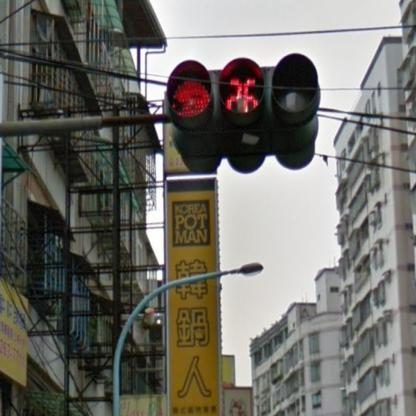Red Light: (163, 58, 322, 143)
